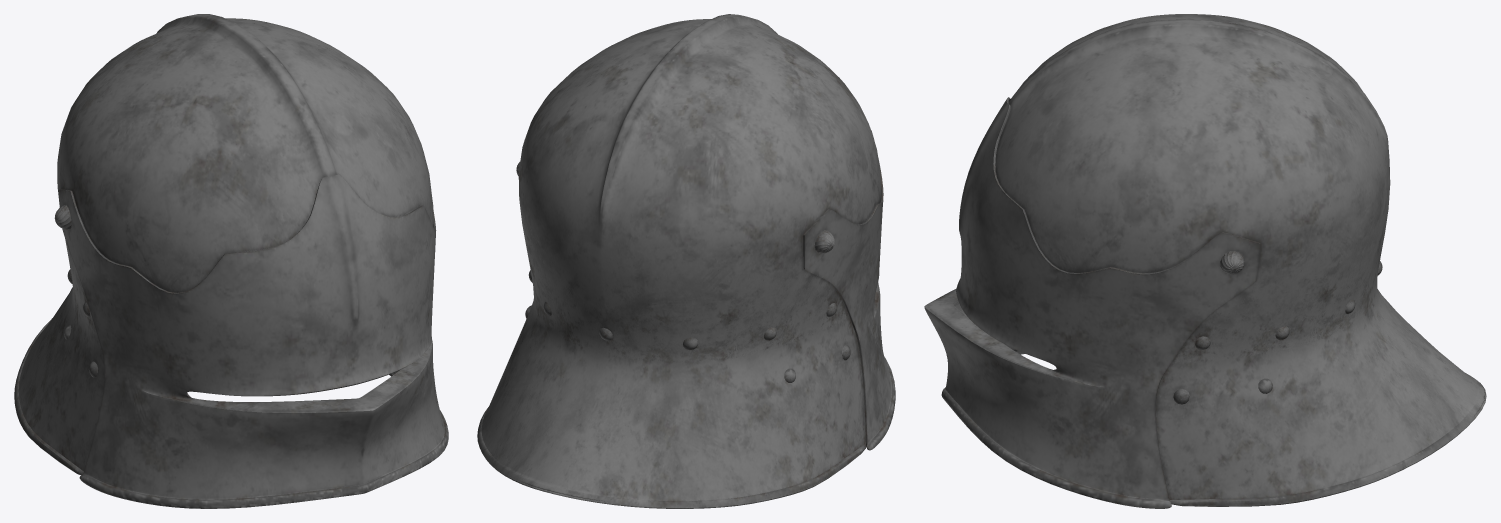
3 renders of one model, left to right at view 1: azimuth 30°, elevation 25°; view 2: azimuth 150°, elevation 25°; view 3: azimuth 270°, elevation 25°, orthographic. The views are drawn at different scales.
Parts seen in each view (by area): view 1: base; view 2: base; view 3: base.
Part boxes in pixels (box(x1,y1,x2,y2)): base: box(14, 14, 448, 508); base: box(477, 14, 895, 508); base: box(924, 14, 1486, 508).
Size of the model in its own units: 1.49 by 1.67 by 2.1.
Materials: 1 (1 with a texture image).
